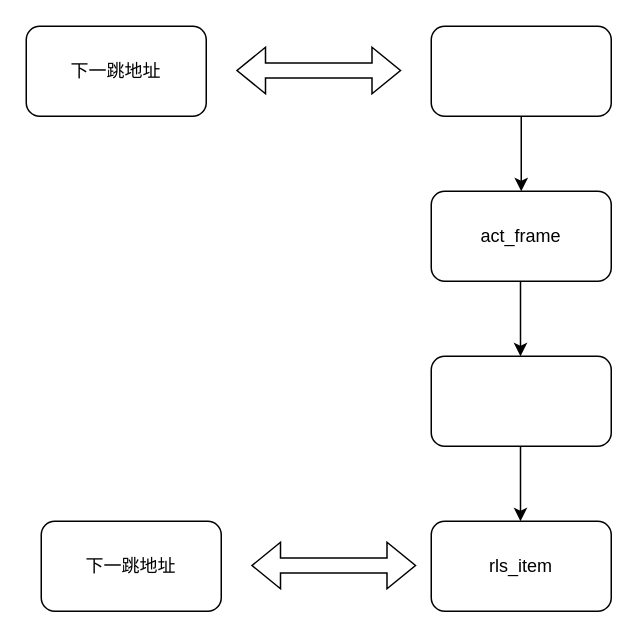
Some shapes in this 638 by 638 pixel diagram are drawn without their labels. Here are the shapes that lost their labels. From the top down, the centre of each, then its label:
At (520,70): "rd_frame".
At (520,400): "done_err".
